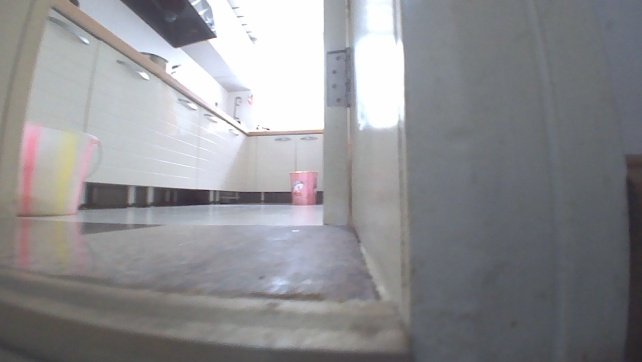cupboard: (19, 0, 326, 209)
